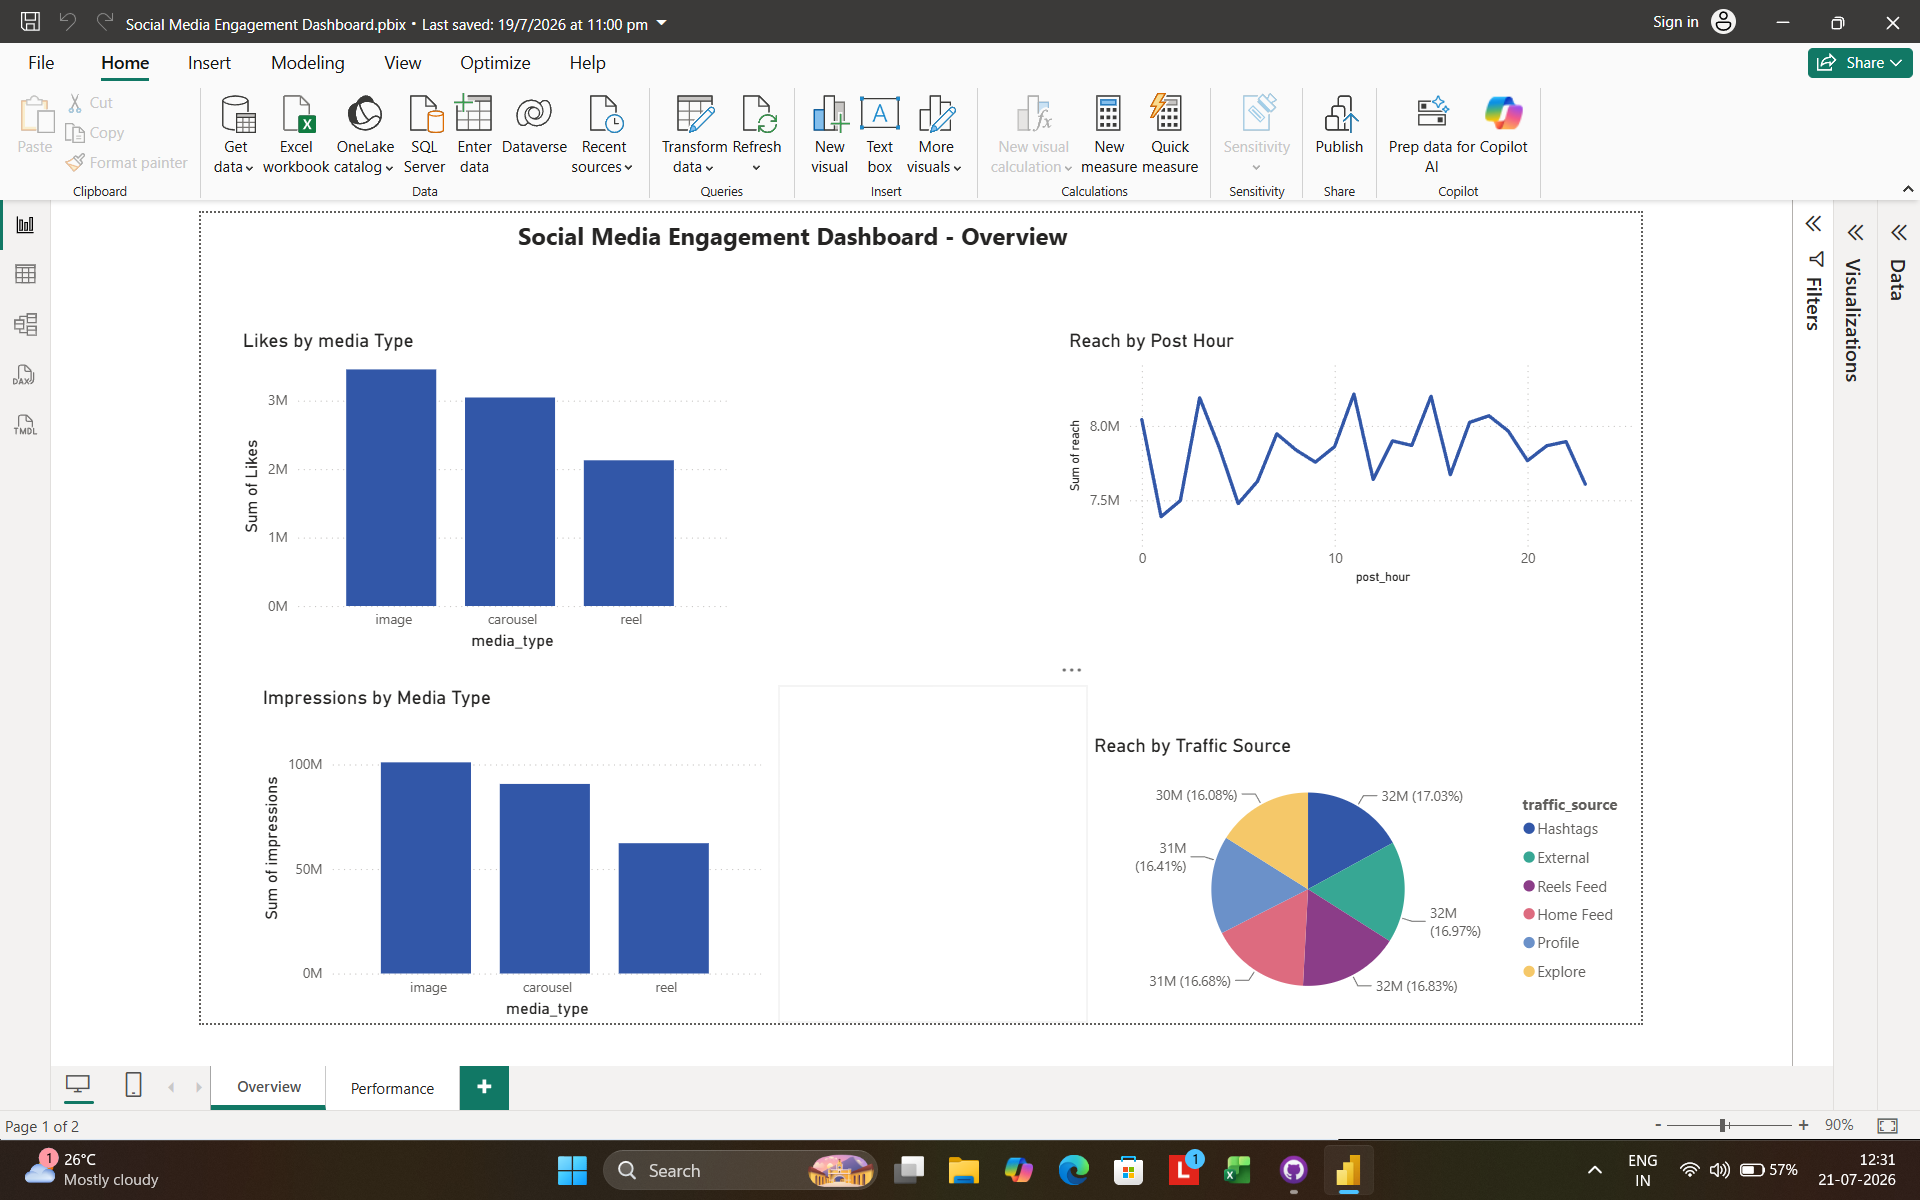

This screenshot's page, from the dashboard's own definition file:
{"tool":"powerbi","page":{"name":"Overview","canvas":[1280,720],"ordinal":0},"visuals":[{"type":"clusteredColumnChart","title":"Likes by media Type","fields":{"Category":["Table23.media_type"],"Y":["Sum(Table23.Likes)"]},"box":[31.7,103.3,440,290],"z":0},{"type":"clusteredColumnChart","title":"Impressions by Media Type","fields":{"Category":["Table23.media_type"],"Y":["Sum(Table23.impressions)"]},"box":[50,420,453.3,300],"z":3},{"type":"pieChart","title":"Reach by Traffic Source","fields":{"Category":["Table23.traffic_source"],"Y":["Sum(Table23.reach)"]},"box":[788.3,463.3,491.7,256.7],"z":4},{"type":"lineChart","title":"Reach by Post Hour","fields":{"Y":["Sum(Table23.reach)"],"Category":["Table23.post_hour"]},"box":[766.7,103.3,513.3,231.7],"z":5},{"type":"textbox","box":[513,420,275,300],"z":6},{"type":"textbox","box":[277.1,0,511.4,50],"z":7}]}

Visuals, with their boxes on the page's 1280x720 design canvas (x1, y1, x2, y2). These are canvas units, not pixel positions in the 1920x1200 screenshot, which may show the page scaled, cropped or inside an application window:
"Likes by media Type" clusteredColumnChart: (32, 103, 472, 393)
"Impressions by Media Type" clusteredColumnChart: (50, 420, 503, 720)
"Reach by Traffic Source" pieChart: (788, 463, 1280, 720)
"Reach by Post Hour" lineChart: (767, 103, 1280, 335)
textbox: (513, 420, 788, 720)
textbox: (277, 0, 788, 50)
